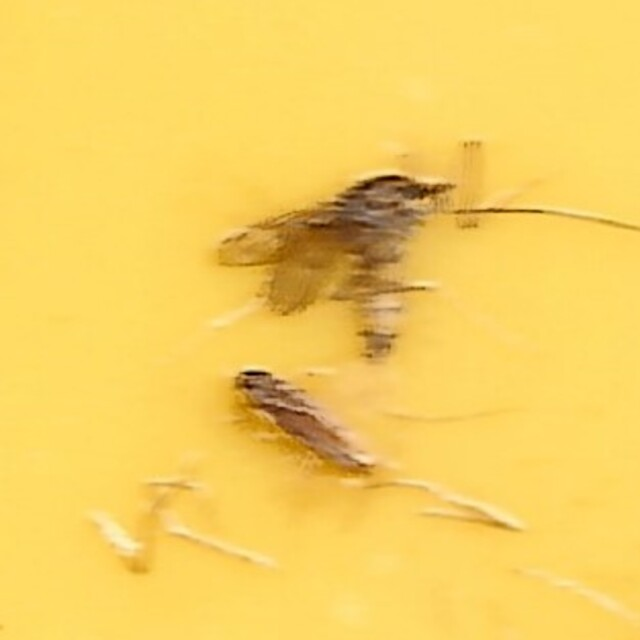Nematocera: (204, 156, 436, 316)
Trichoptera: (227, 365, 395, 484)
